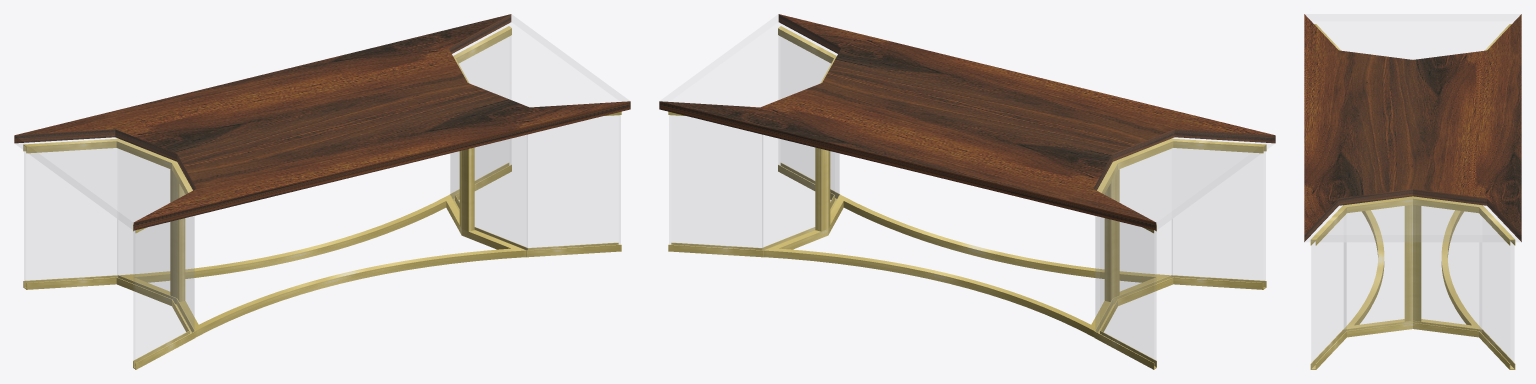
The model's file is imperium.gltf.
3 views of the same model, side by side, from view 1: azimuth 30°, elevation 25°; view 2: azimuth 150°, elevation 25°; view 3: azimuth 270°, elevation 25° (orthographic). The views are drawn at different scales.
Visible parts, largest first — view 1: mesh_0; view 2: mesh_0; view 3: mesh_0.
Boxes of the visible parts, x1,y1,x2,y2 form: mesh_0: (14,14,630,369); mesh_0: (659,14,1275,369); mesh_0: (1304,14,1521,369).
Bounding box in the file's own units: 257 × 74.6 × 107.
3 materials, 2 textured.
